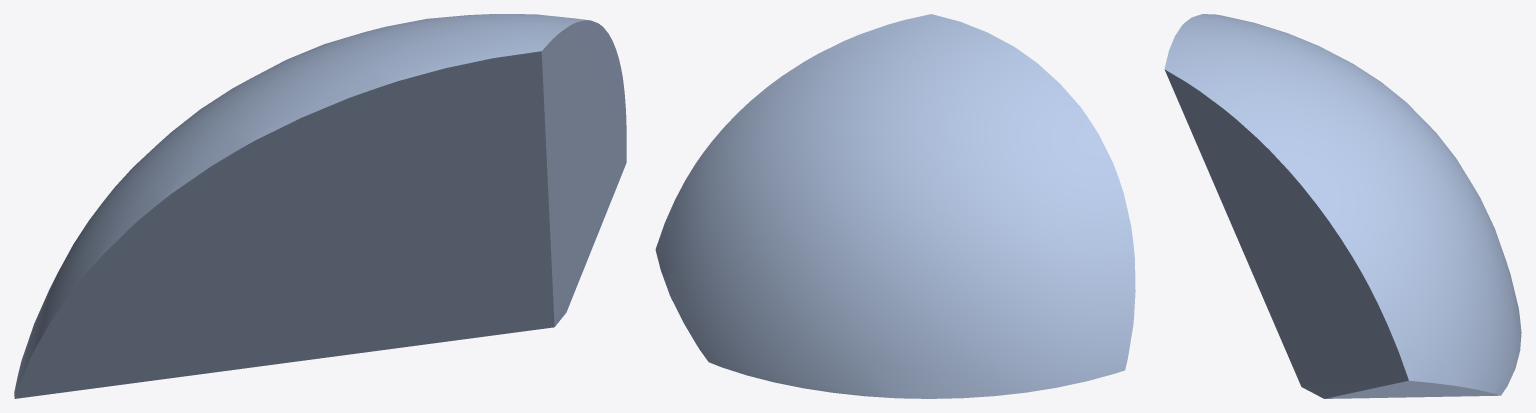
The model's file is Ball1_3.fbx.
The picture shows the model from 3 angles, left to right: view 1: azimuth 30°, elevation 25°; view 2: azimuth 150°, elevation 25°; view 3: azimuth 270°, elevation 25°; orthographic projection. The views are drawn at different scales.
Visible parts, largest first — view 1: Cube_cell.076; view 2: Cube_cell.076; view 3: Cube_cell.076.
Part boxes in pixels (x1,y1,x2,y2): Cube_cell.076: (14, 14, 626, 398); Cube_cell.076: (655, 14, 1135, 398); Cube_cell.076: (1164, 14, 1521, 398).
Bounding box in the file's own units: 127 × 70.5 × 79.13.
